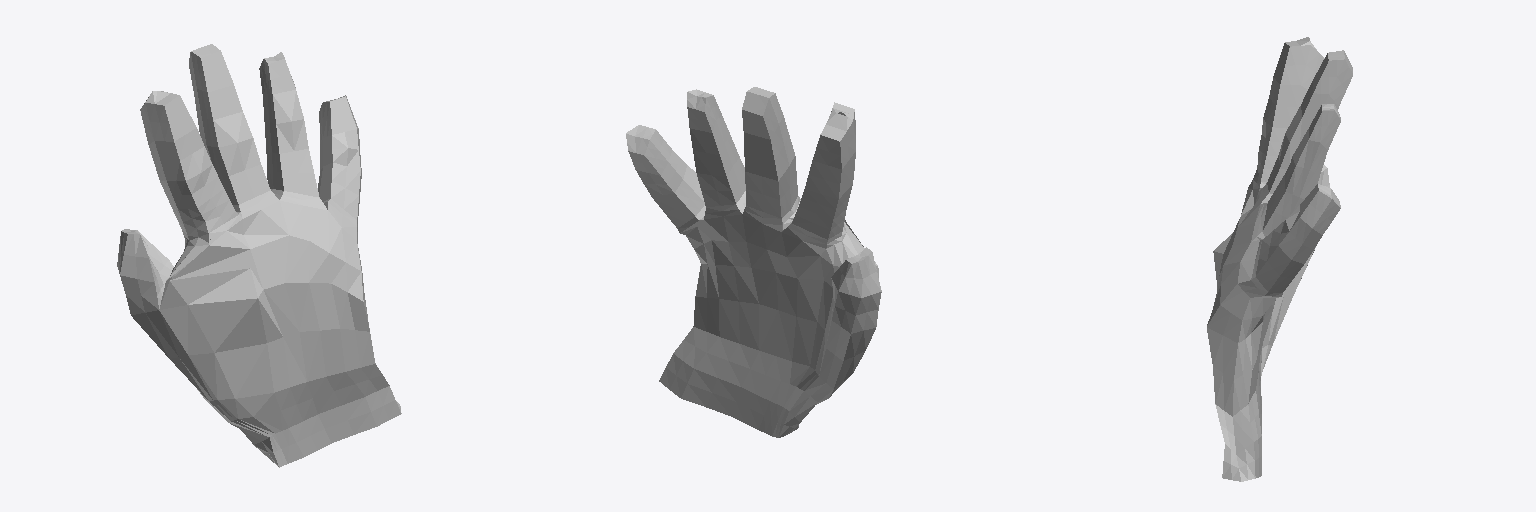
File: flexion0013.obj
3 renders of one model, left to right at view 1: azimuth 30°, elevation 25°; view 2: azimuth 150°, elevation 25°; view 3: azimuth 270°, elevation 25°, orthographic.
Parts seen in each view (by area): view 1: Hand; view 2: Hand; view 3: Hand.
Part boxes in pixels (x1,y1,x2,y2): Hand: (117,44,401,467); Hand: (626,87,881,437); Hand: (1207,37,1352,481).
Bounding box in the file's own units: 3.27 × 4.78 × 1.66.